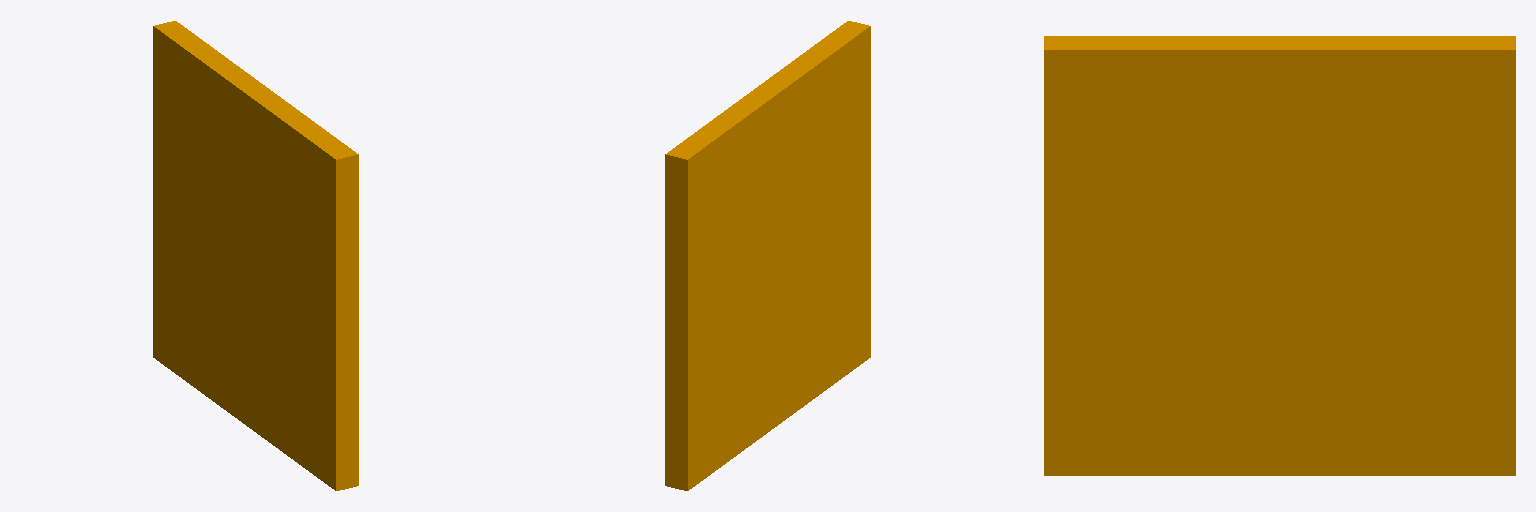
The robot description file, URDF, robot "square":
<?xml version="1.0" ?>
<robot name="square">
  <link name="base_link">
    <visual>
      <geometry>
        <mesh filename="square.obj" scale="0.09899494936611665 0.09899494936611665 0.09899494936611665"/>
      </geometry>
    </visual>
    <collision>
      <geometry>
        <box size="0.009899494936611665 0.14 0.14"/>
      </geometry>
    </collision>
    <inertial>
      <mass value="1.0"/>
      <inertia ixx="0.0032666666666666673" ixy="0.0" ixz="0.0" iyy="0.0016415000000000004" iyz="0.0" izz="0.0016415000000000004"/>
    </inertial>
  </link>
  <!--
    <link name="test">
        <visual>
            <geometry>
                <box size="${x} ${y} ${z}"/>
            </geometry>
            <material name="Miau">
                <color rgba="1.0 0.0 0.0 1"/>
            </material>
        </visual>
    </link>
    <joint name="base_link_to_test" type="fixed">
        <parent link="base_link"/>
        <child link="test"/>
    </joint>
    -->
</robot>

--- Facts derived from the render (not from the file) ---
Views: 3 orthographic renders of the robot side by side, from view 1: azimuth 30°, elevation 25°; view 2: azimuth 150°, elevation 25°; view 3: azimuth 270°, elevation 25°.
Robot: square — 1 links, 0 joints (none); root link base_link; default pose: every joint at zero.
Visible links, largest first — view 1: base_link; view 2: base_link; view 3: base_link.
Boxes of the visible links, x1,y1,x2,y2 form: base_link: (153, 21, 358, 490); base_link: (665, 21, 870, 490); base_link: (1044, 36, 1515, 475).
Bounding box of the posed robot: 0.0099 × 0.14 × 0.14 m (x, y, z).
1 mesh visuals loaded from 1 distinct referenced files (1 OBJ).